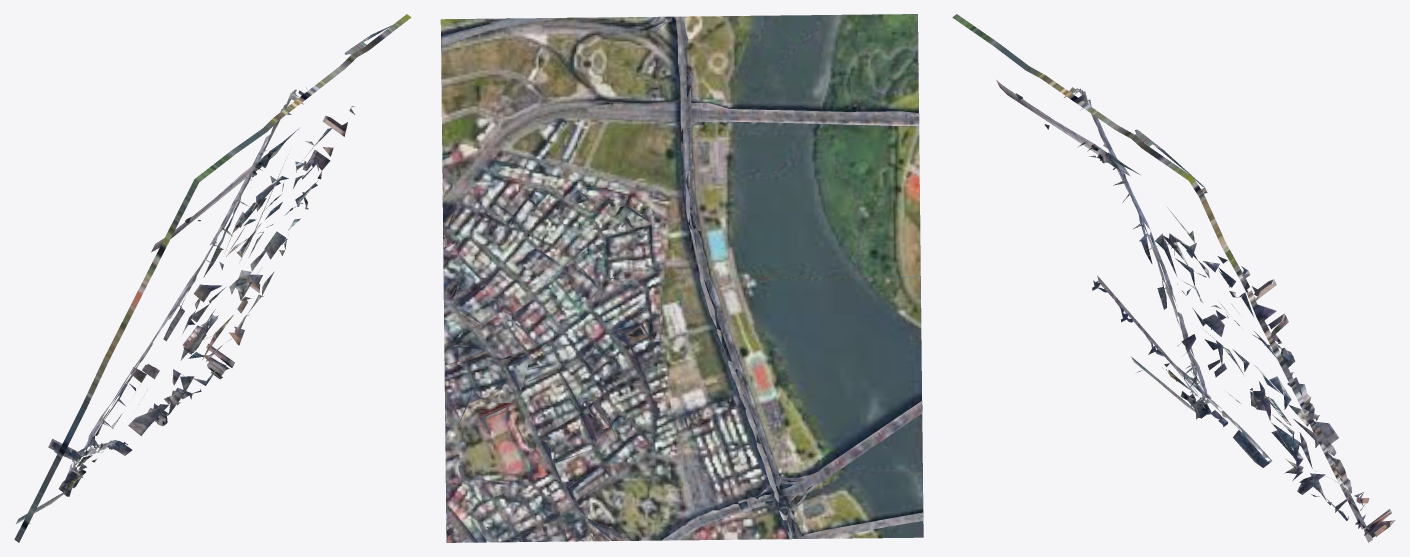
The picture shows the model from 3 angles, left to right: view 1: azimuth 30°, elevation 25°; view 2: azimuth 150°, elevation 25°; view 3: azimuth 270°, elevation 25°; orthographic projection. The views are drawn at different scales.
Bounding box in the file's own units: 1220 × 1124 × 1086.
1 material, 1 textured.
